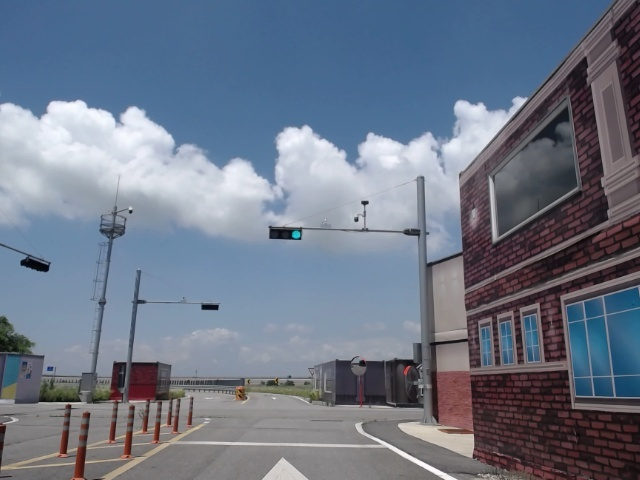green_3: (270, 230, 302, 239)
